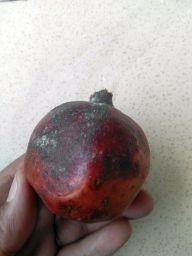pomegranate: (24, 89, 151, 223)
